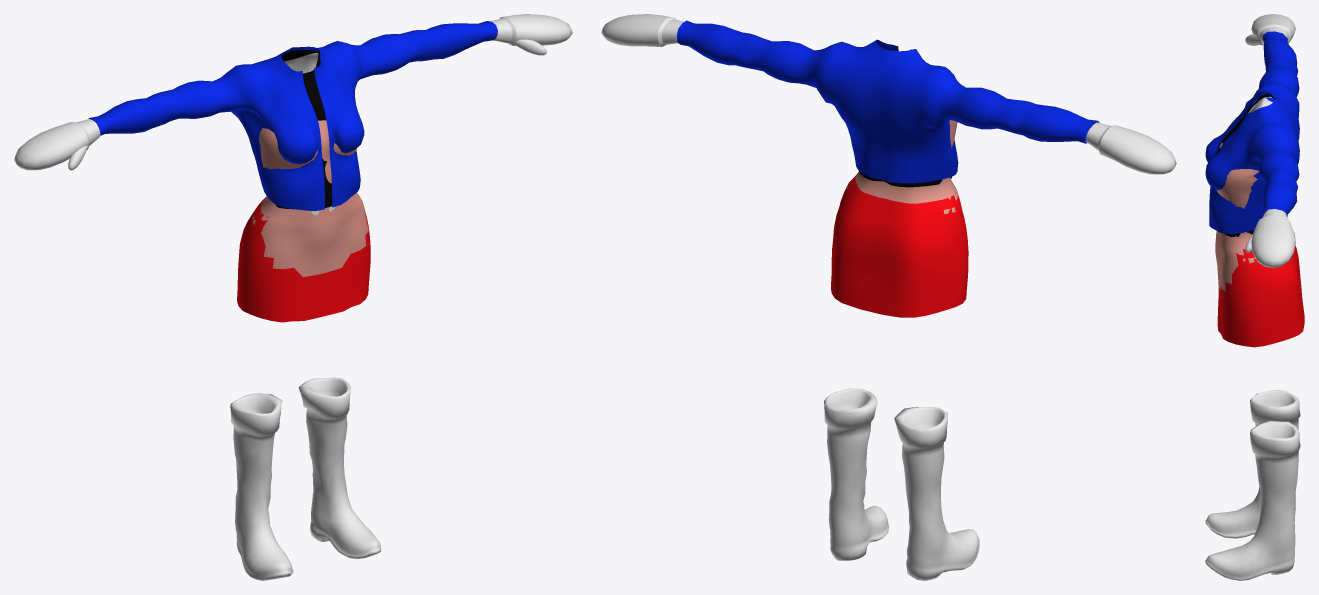
The model's file is allClothes.fbx.
3 views of the same model, side by side, from view 1: azimuth 30°, elevation 25°; view 2: azimuth 150°, elevation 25°; view 3: azimuth 270°, elevation 25° (orthographic). The views are drawn at different scales.
Visible parts, largest first — view 1: coat, skirt, towel, boot.L, boot.R, glove.R, glove.L, top; view 2: coat, skirt, boot.R, boot.L, glove.R, glove.L, towel; view 3: coat, boot.L, skirt, boot.R, towel, glove.L, glove.R, top, bikini3_top.
Part boxes in pixels (x1=…): coat: x1=88, y1=21, x2=497, y2=210; skirt: x1=237, y1=197, x2=370, y2=322; towel: x1=252, y1=113, x2=368, y2=276; boot.L: x1=298, y1=377, x2=381, y2=558; boot.R: x1=230, y1=393, x2=293, y2=580; glove.R: x1=14, y1=119, x2=100, y2=170; glove.L: x1=490, y1=14, x2=572, y2=55; top: x1=276, y1=50, x2=332, y2=209; coat: x1=676, y1=20, x2=1099, y2=183; skirt: x1=831, y1=176, x2=968, y2=317; boot.R: x1=894, y1=407, x2=979, y2=580; boot.L: x1=824, y1=388, x2=888, y2=560; glove.R: x1=1086, y1=122, x2=1176, y2=174; glove.L: x1=601, y1=14, x2=684, y2=46; towel: x1=846, y1=120, x2=963, y2=215; coat: x1=1205, y1=31, x2=1299, y2=234; boot.L: x1=1205, y1=420, x2=1300, y2=580; skirt: x1=1217, y1=245, x2=1304, y2=347; boot.R: x1=1205, y1=390, x2=1300, y2=538; towel: x1=1215, y1=142, x2=1258, y2=291; glove.L: x1=1245, y1=209, x2=1295, y2=267; glove.R: x1=1245, y1=14, x2=1295, y2=45; top: x1=1217, y1=93, x2=1275, y2=236; bikini3_top: x1=1248, y1=94, x2=1272, y2=112.
Bounding box in the file's own units: 175 × 151 × 29.83.
